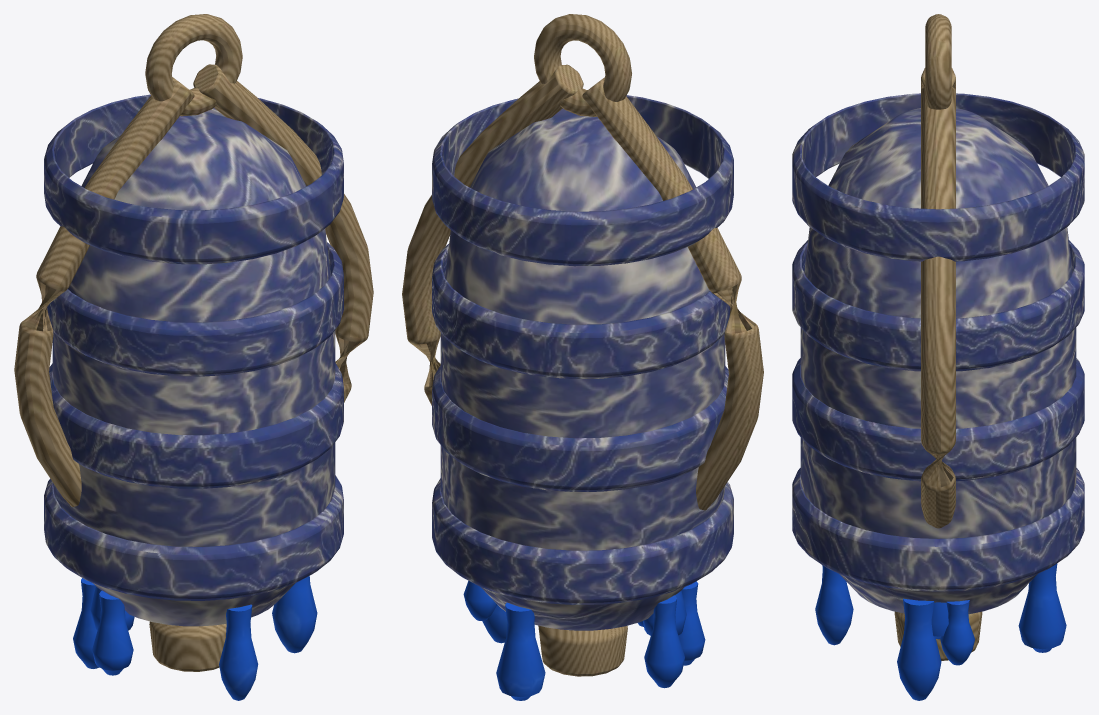
Rendered from buoy.glb.
3 views of the same model, side by side, from view 1: azimuth 30°, elevation 25°; view 2: azimuth 150°, elevation 25°; view 3: azimuth 270°, elevation 25° (orthographic). The views are drawn at different scales.
Parts seen in each view (by area): view 1: buoy; view 2: buoy; view 3: buoy.
Part boxes in pixels (bbox=[...]): buoy: bbox=[14, 14, 373, 700]; buoy: bbox=[402, 14, 763, 700]; buoy: bbox=[792, 14, 1084, 700].
Size of the model in its own units: 0.5677 by 1 by 0.4131.
Materials: 1 (1 with a texture image).
